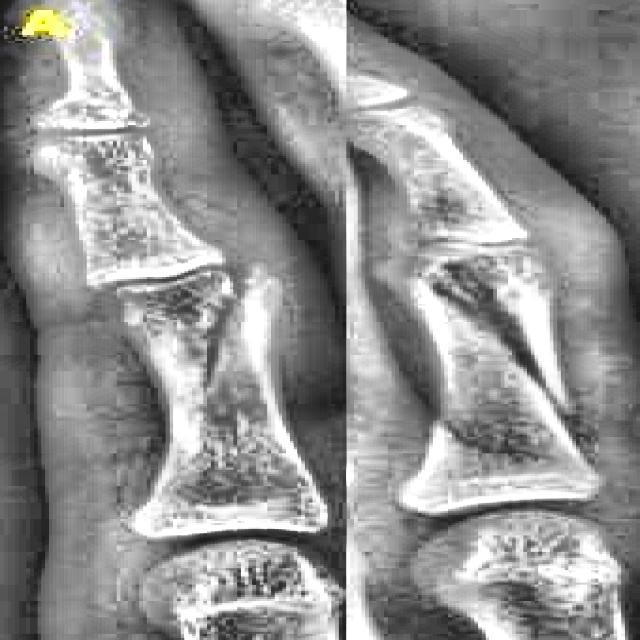fracture: (433, 256, 576, 424), (162, 256, 271, 466)
